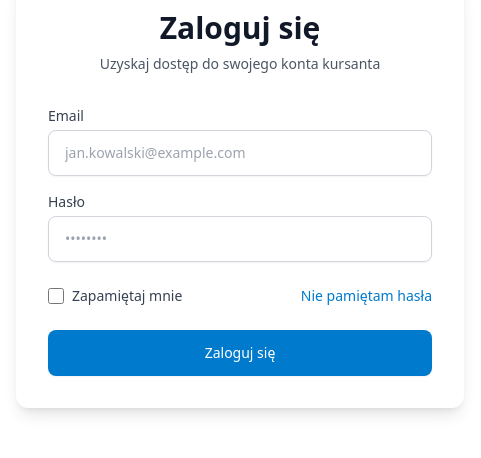
LoginForm › Form Validation › should validate password length
The image size is (481, 458).
Type "12345" into the password field with test id "password-input" at (240, 239), box left=48, top=216, right=432, bottom=262
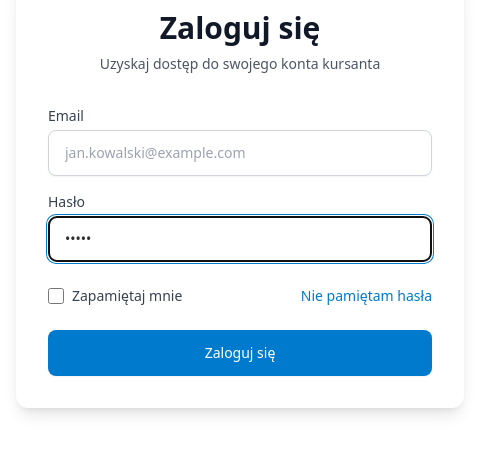
Press Tab
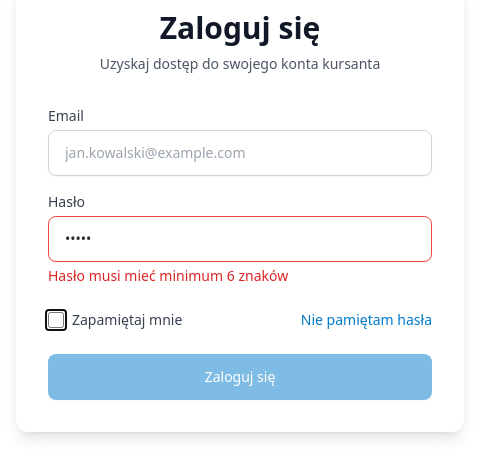
Result: the text with test id "password-error" reads "Hasło musi mieć minimum 6 znaków" at left=48, top=266, right=288, bottom=285
Type "123456" into the password field with test id "password-input" at (240, 239), box left=48, top=216, right=432, bottom=262
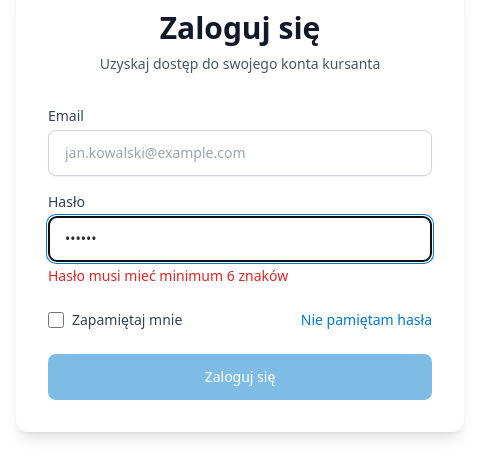
Press Tab
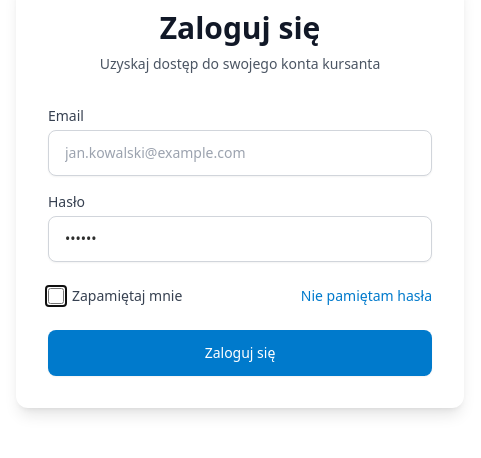
Result: the text with test id "password-error" is gone
